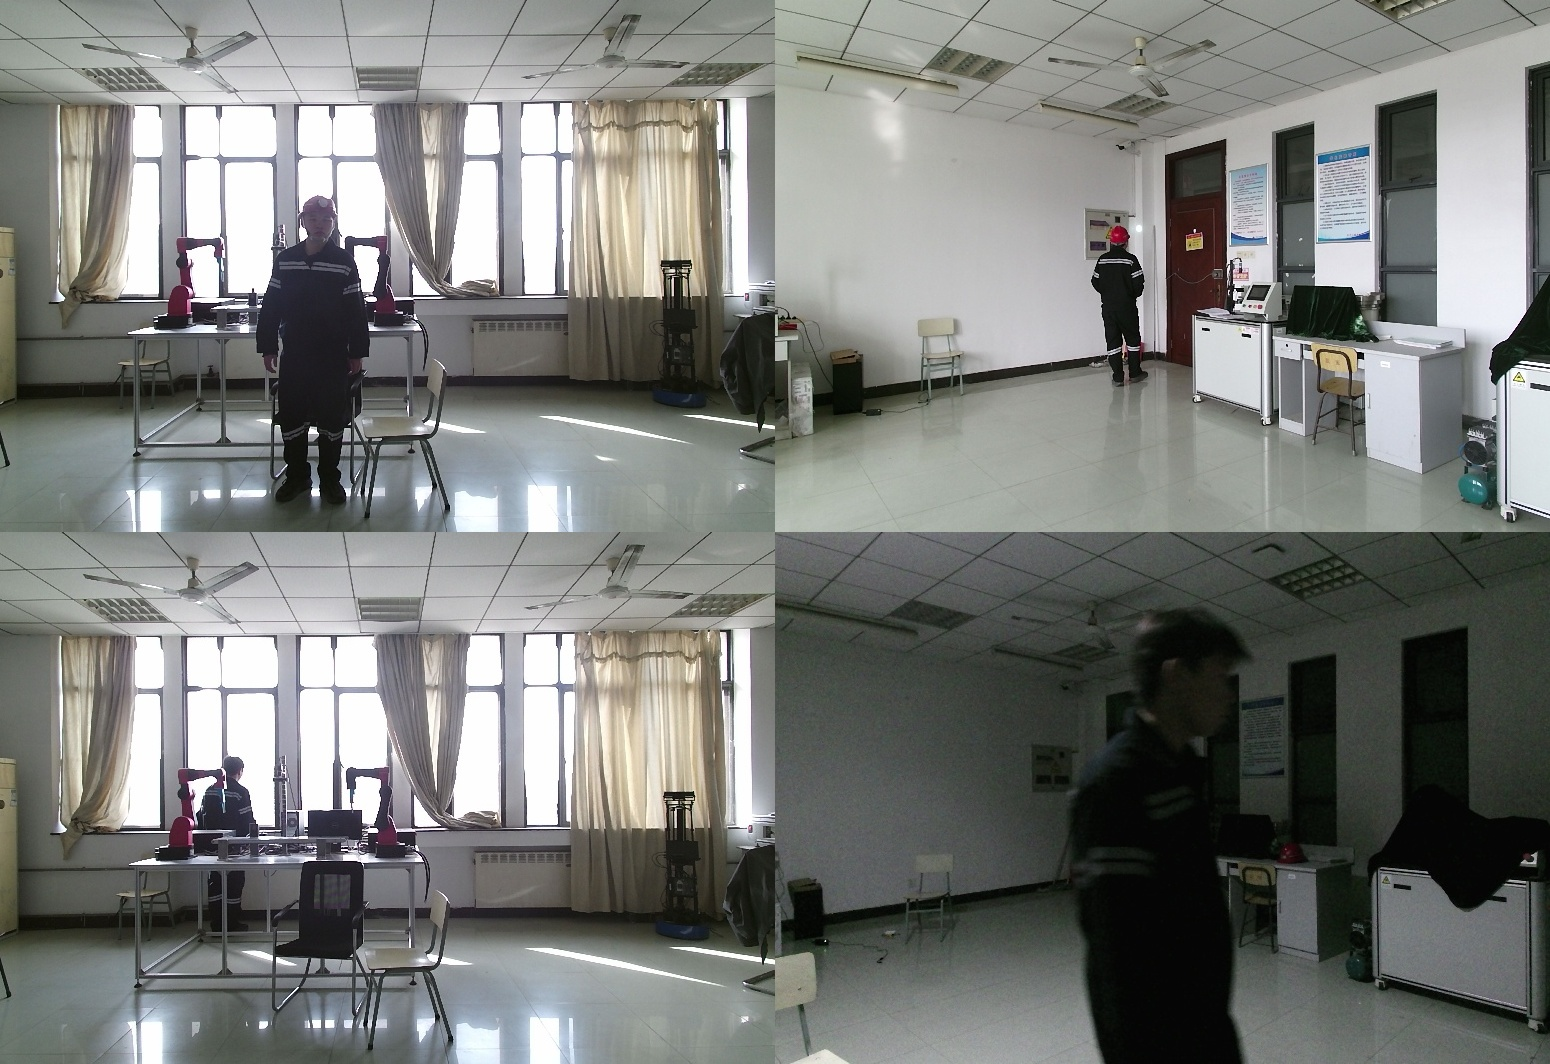person: (1061, 609, 1256, 1064), (258, 196, 373, 511), (198, 760, 254, 949), (1089, 227, 1149, 393)
